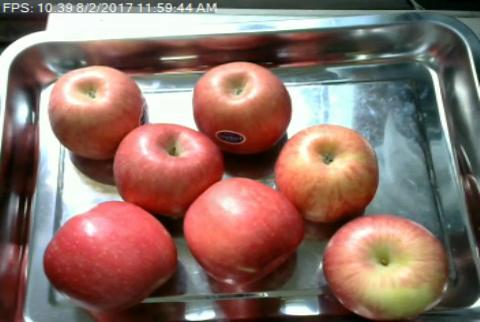apple: (43, 200, 178, 311), (323, 216, 448, 321), (184, 178, 304, 286), (273, 124, 380, 223), (112, 123, 221, 217), (48, 65, 146, 157), (193, 62, 293, 151)
